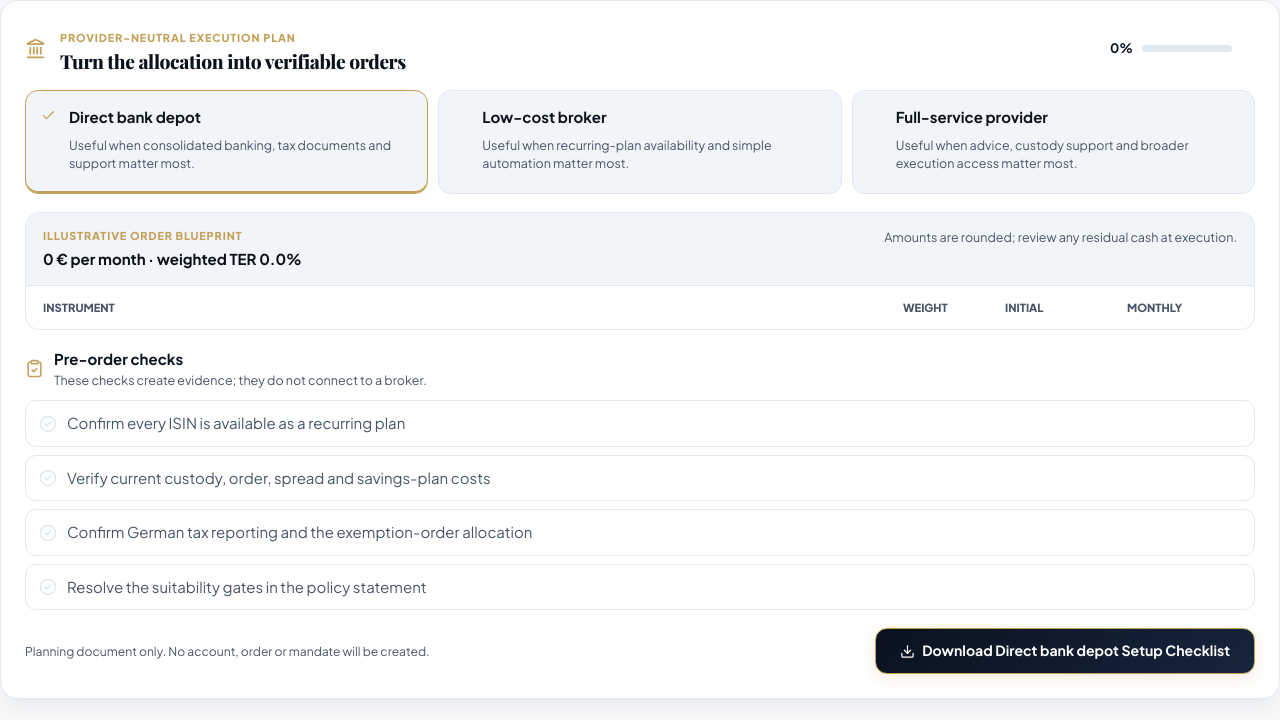
Scenario: investment audit workflows › downloads a real zero-contribution checklist without implying a broker transaction
This screenshot has width=1280, height=720.
What coordinates should you click on to do the following:
click the button "Download Direct bank depot Setup Checklist"
I would click on:
 (1065, 651)
Its box is [875,628,1255,674].
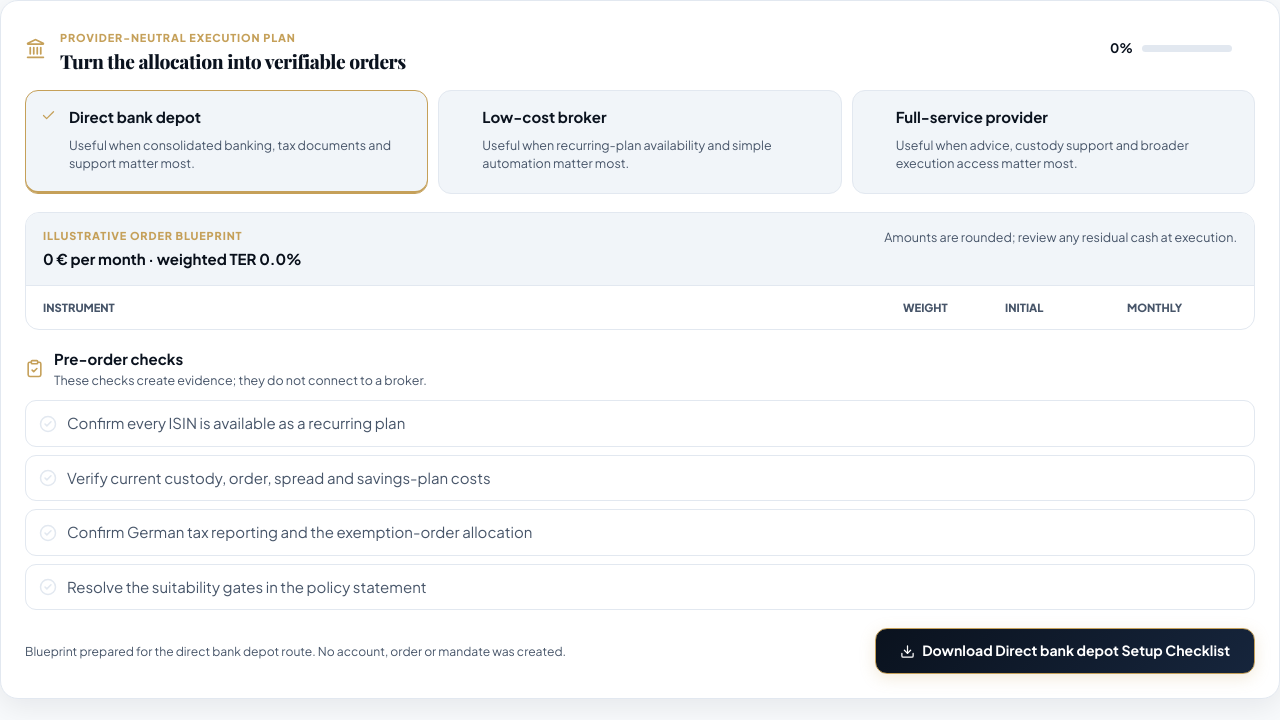
Expected: the text "No account, order or mandate was created" is shown, [25,643,566,659]
